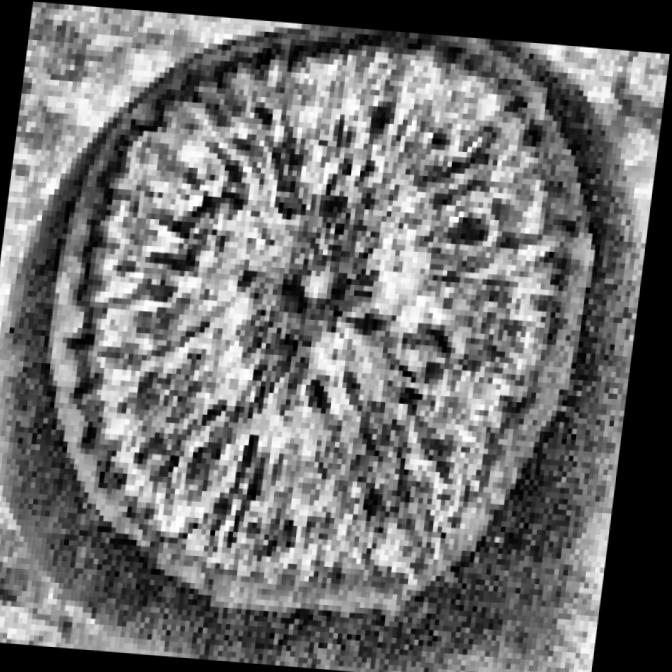qualityHazelnut: (0, 0, 672, 672)
